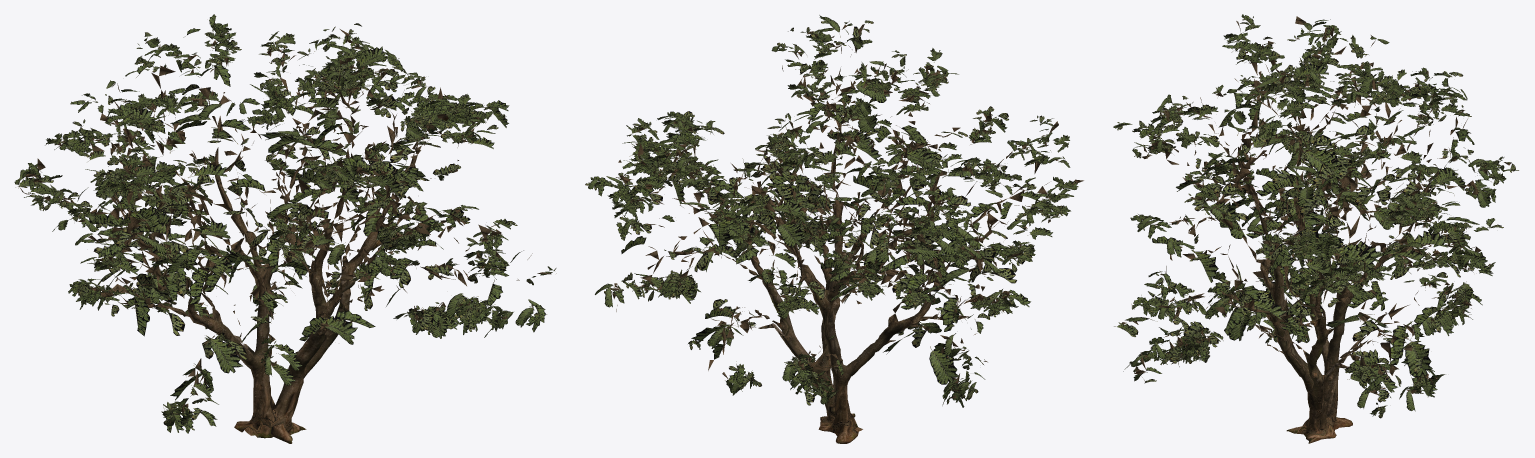
File: jacaranda_tree.glb
3 views of the same model, side by side, from view 1: azimuth 30°, elevation 25°; view 2: azimuth 150°, elevation 25°; view 3: azimuth 270°, elevation 25° (orthographic). The views are drawn at different scales.
Visible parts, largest first — view 1: jacaranda_tree_LOD0; view 2: jacaranda_tree_LOD0; view 3: jacaranda_tree_LOD0.
Part boxes in pixels (x1,y1,x2,y2): jacaranda_tree_LOD0: [14, 14, 556, 443]; jacaranda_tree_LOD0: [585, 15, 1083, 443]; jacaranda_tree_LOD0: [1113, 14, 1518, 443].
Size of the model in its own units: 21.29 by 17 by 16.46.
3 materials, 3 textured.
